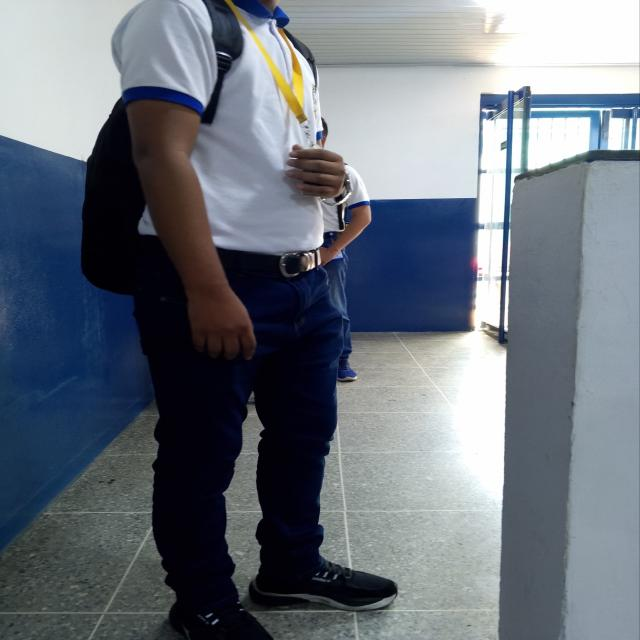pantalon_oscuro: (132, 264, 344, 610)
uniforme_superior: (109, 0, 325, 253)
